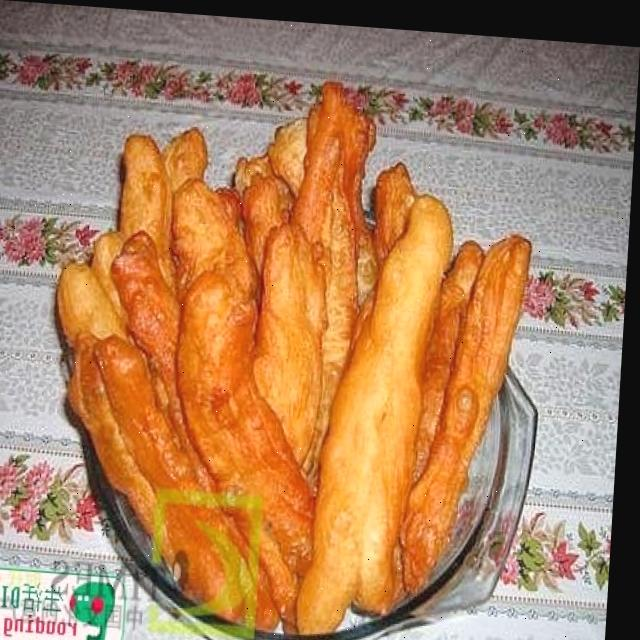炸货点心: (29, 78, 589, 640)
